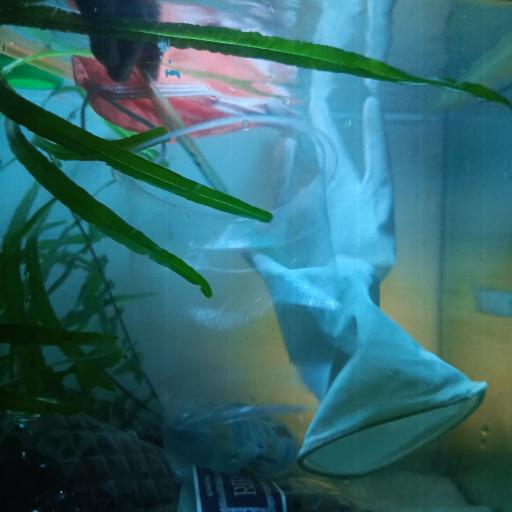glove: (236, 89, 485, 475)
mask: (74, 48, 294, 131)
plastic_bottle: (0, 396, 357, 512), (126, 409, 460, 487)
plastic_cup: (111, 115, 342, 422)
plastic_straw: (130, 60, 229, 198), (0, 38, 71, 79)
